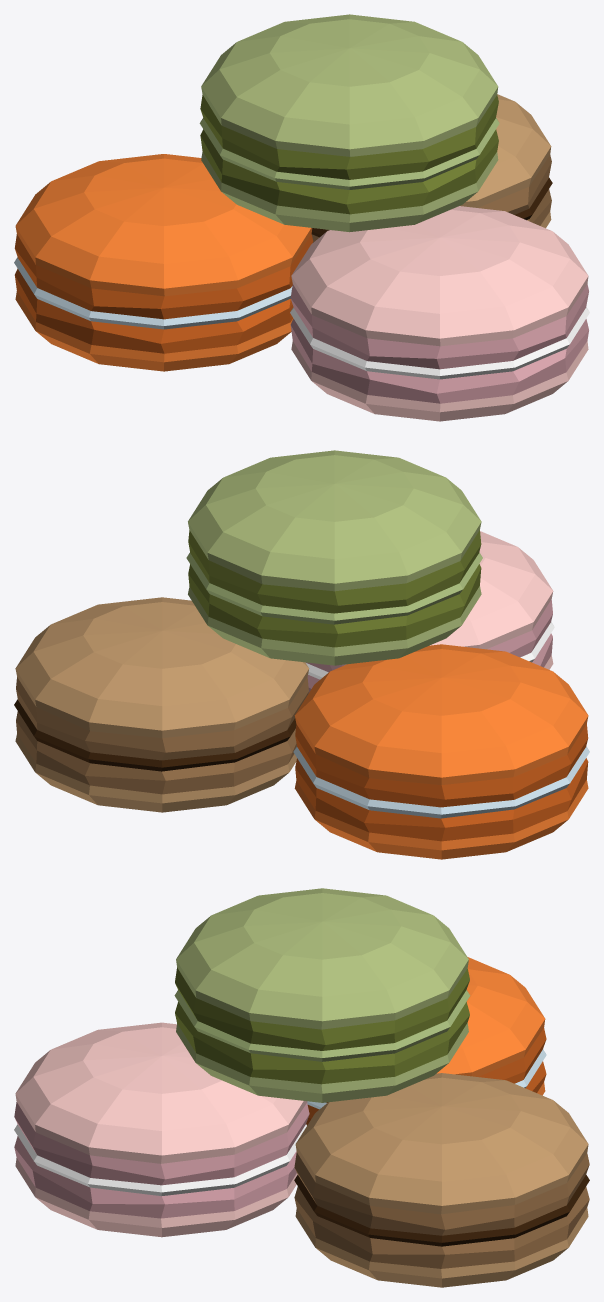
Rendered from MakaronState0.fbx.
3 views of the same model, one above another, from view 1: azimuth 30°, elevation 25°; view 2: azimuth 150°, elevation 25°; view 3: azimuth 270°, elevation 25° (orthographic).
Visible parts, largest first — view 1: MakaronState0; view 2: MakaronState0; view 3: MakaronState0.
Boxes of the visible parts, x1,y1,x2,y2 form: MakaronState0: (14, 14, 589, 421); MakaronState0: (14, 450, 589, 859); MakaronState0: (14, 888, 589, 1287).
Size of the model in its own units: 113 by 58.32 by 110.
